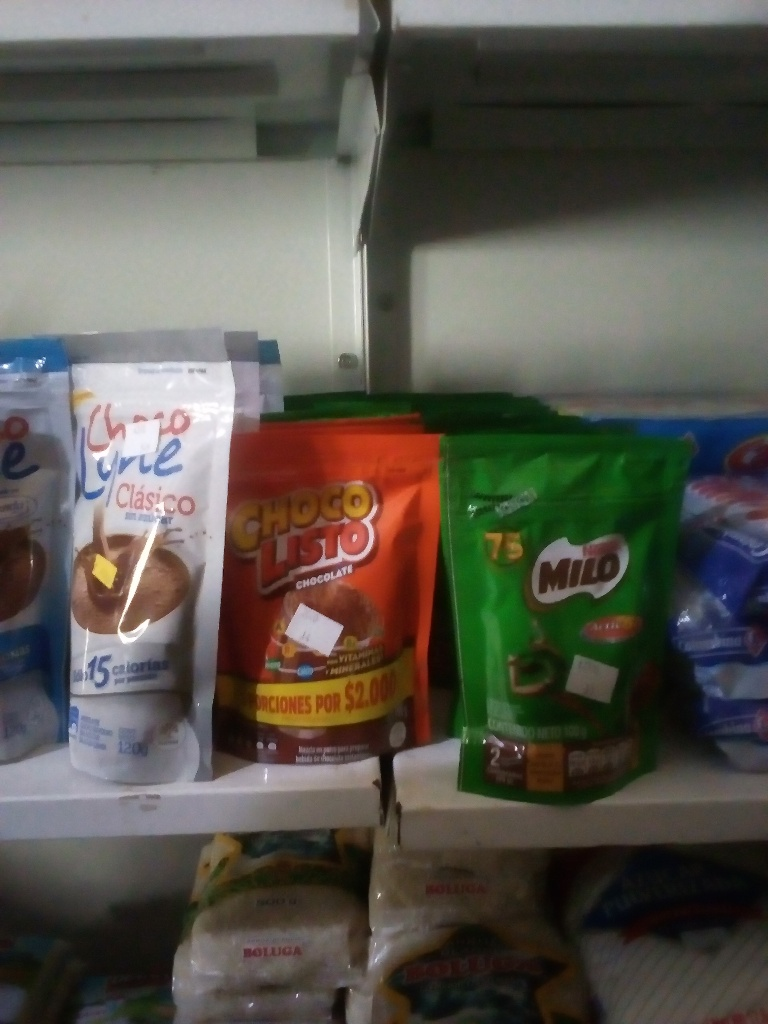COL0170203DYP10000: (440, 435, 693, 803)
